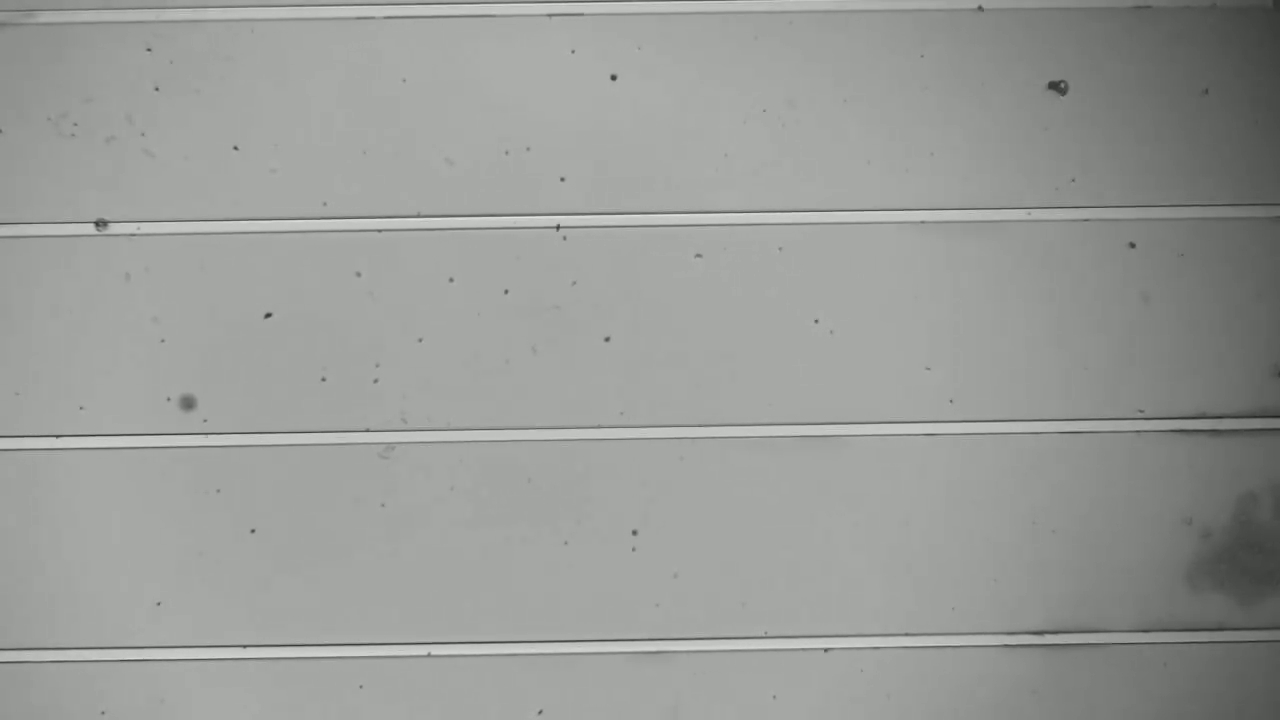stains_enbedded: (90, 211, 114, 245)
